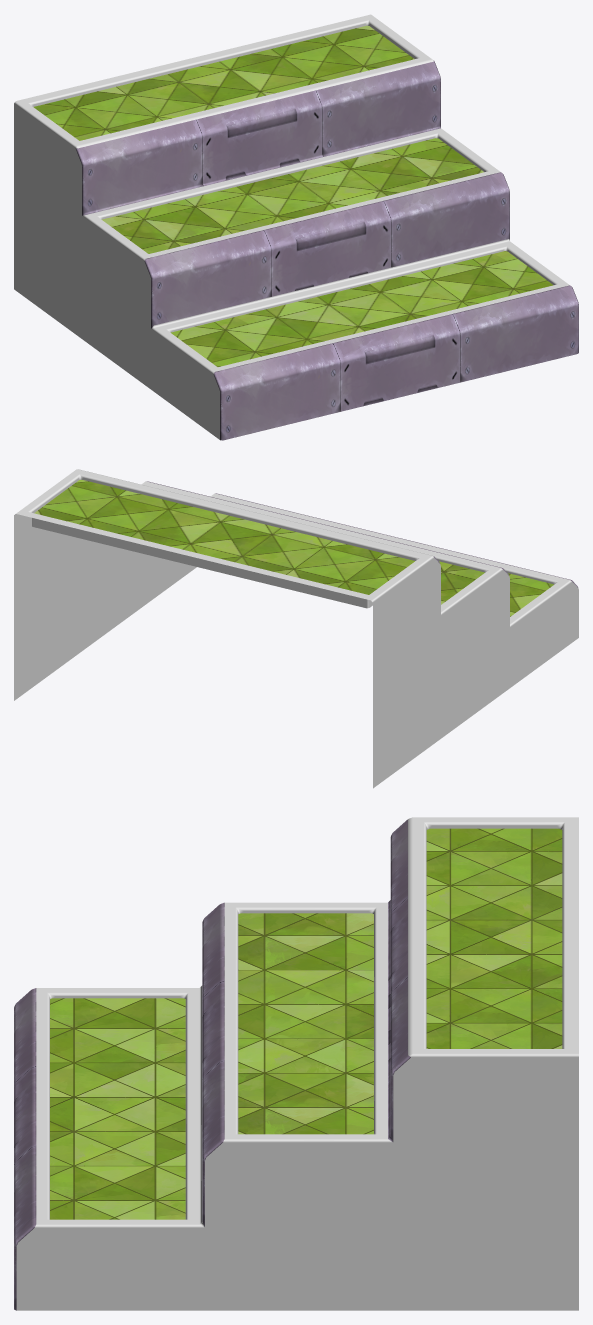
The model's file is SM_Bleacher.fbx.
3 views of the same model, one above another, from view 1: azimuth 30°, elevation 25°; view 2: azimuth 150°, elevation 25°; view 3: azimuth 270°, elevation 25° (orthographic). The views are drawn at different scales.
Parts seen in each view (by area): view 1: SM_Bleachers; view 2: SM_Bleachers; view 3: SM_Bleachers.
Boxes of the visible parts, <box> form: SM_Bleachers: <box>14,14,578,440</box>; SM_Bleachers: <box>14,469,578,788</box>; SM_Bleachers: <box>14,817,578,1310</box>.
Size of the model in its own units: 600 by 300 by 600.
